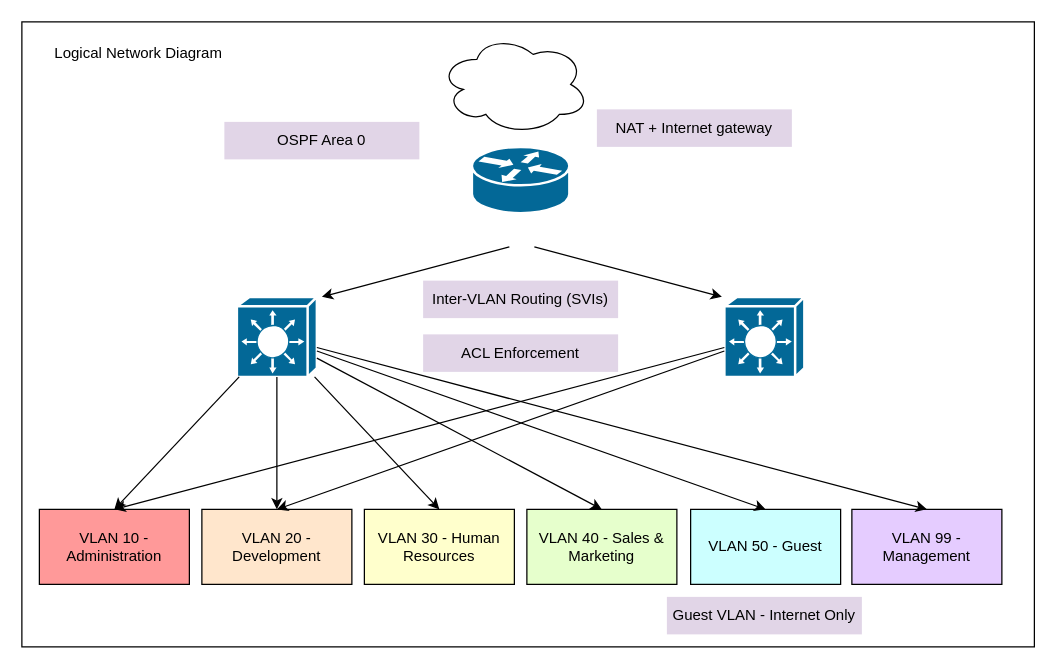
The diagram is 1056 pixels wide and 669 high, and some of its shapes have lost their labels. The box of each missing label's shape, as (x1, y1, x2, y2) in pixels:
Core Router: (470, 145, 570, 214)
Dist-SW1: (235, 295, 318, 378)
Dist-SW2: (722, 295, 805, 378)
Internet: (438, 33, 589, 134)
